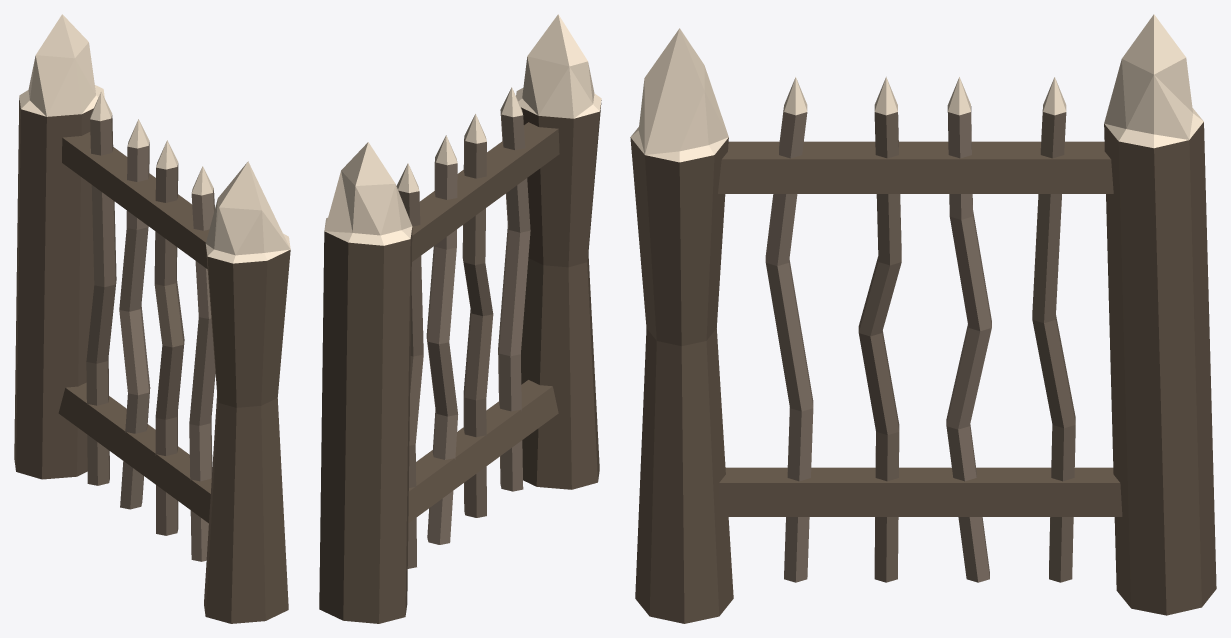
File: _FENSE_LINE_01.fbx
3 renders of one model, left to right at view 1: azimuth 30°, elevation 25°; view 2: azimuth 150°, elevation 25°; view 3: azimuth 270°, elevation 25°, orthographic. The views are drawn at different scales.
Parts seen in each view (by area): view 1: FENSE_LINE_01; view 2: FENSE_LINE_01; view 3: FENSE_LINE_01.
Part boxes in pixels (left/top/right/bottom): FENSE_LINE_01: left=14, top=14, right=290, bottom=623; FENSE_LINE_01: left=319, top=14, right=601, bottom=623; FENSE_LINE_01: left=630, top=14, right=1216, bottom=623.
Size of the model in its own units: 41.56 by 220 by 200.
